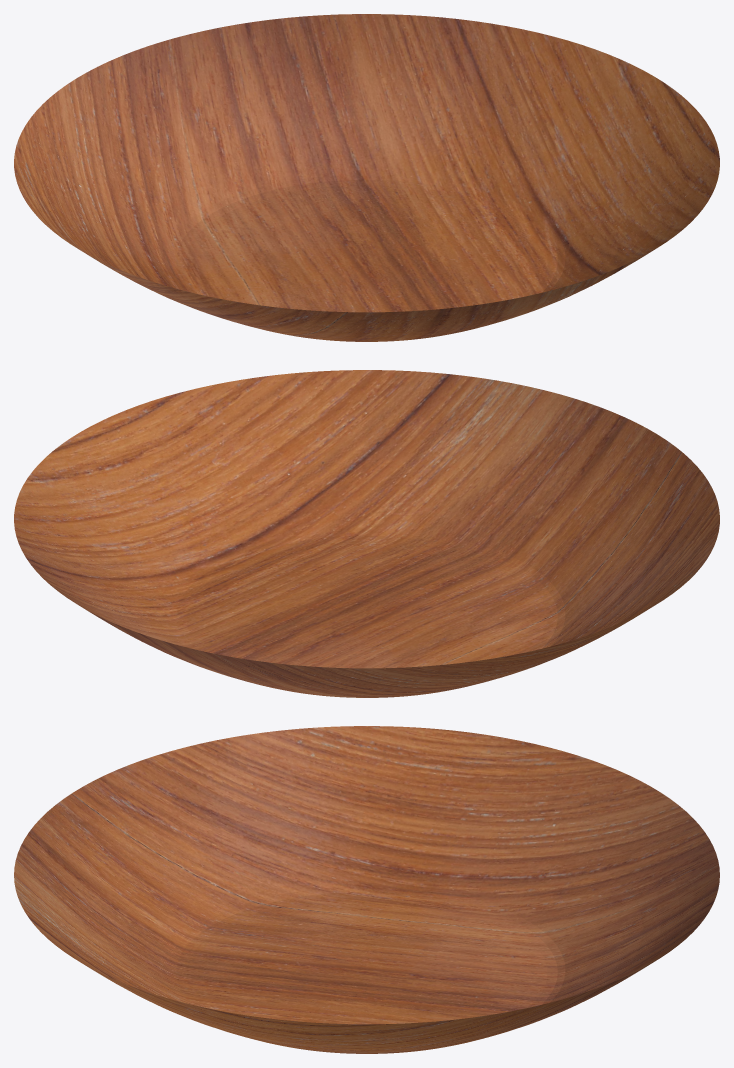
Rendered from piring.glb.
3 renders of one model, top to bottom at view 1: azimuth 30°, elevation 25°; view 2: azimuth 150°, elevation 25°; view 3: azimuth 270°, elevation 25°, orthographic.
Visible parts, largest first — view 1: Sphere; view 2: Sphere; view 3: Sphere.
Part boxes in pixels (bbox=[...]): Sphere: bbox=[14, 14, 719, 341]; Sphere: bbox=[14, 370, 719, 697]; Sphere: bbox=[14, 726, 719, 1053].
Bounding box in the file's own units: 1.41 × 0.2168 × 1.41.
Materials: 1 (1 with a texture image).
